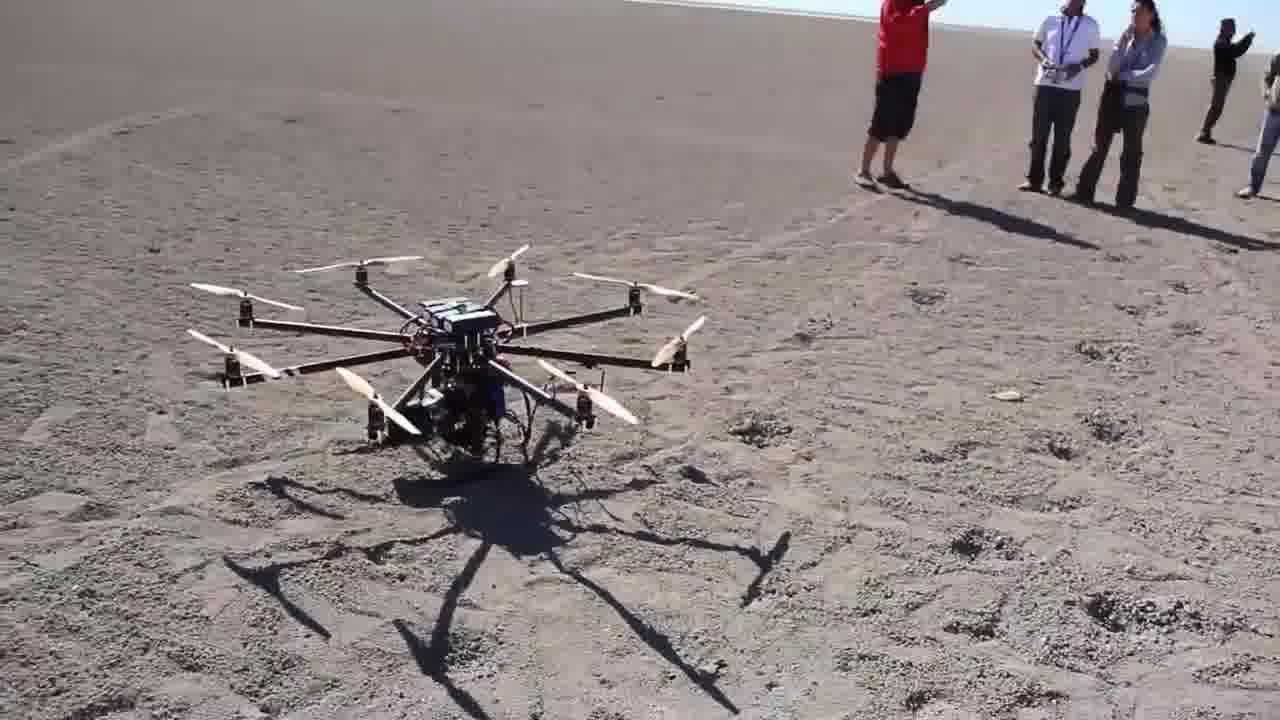drone: (162, 233, 702, 480)
